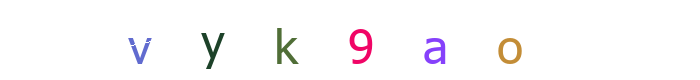9: (310, 0, 390, 80)
A: (321, 0, 401, 80)
K: (286, 0, 366, 80)
O: (465, 0, 545, 80)
V: (210, 0, 290, 80)
Y: (277, 0, 357, 80)
